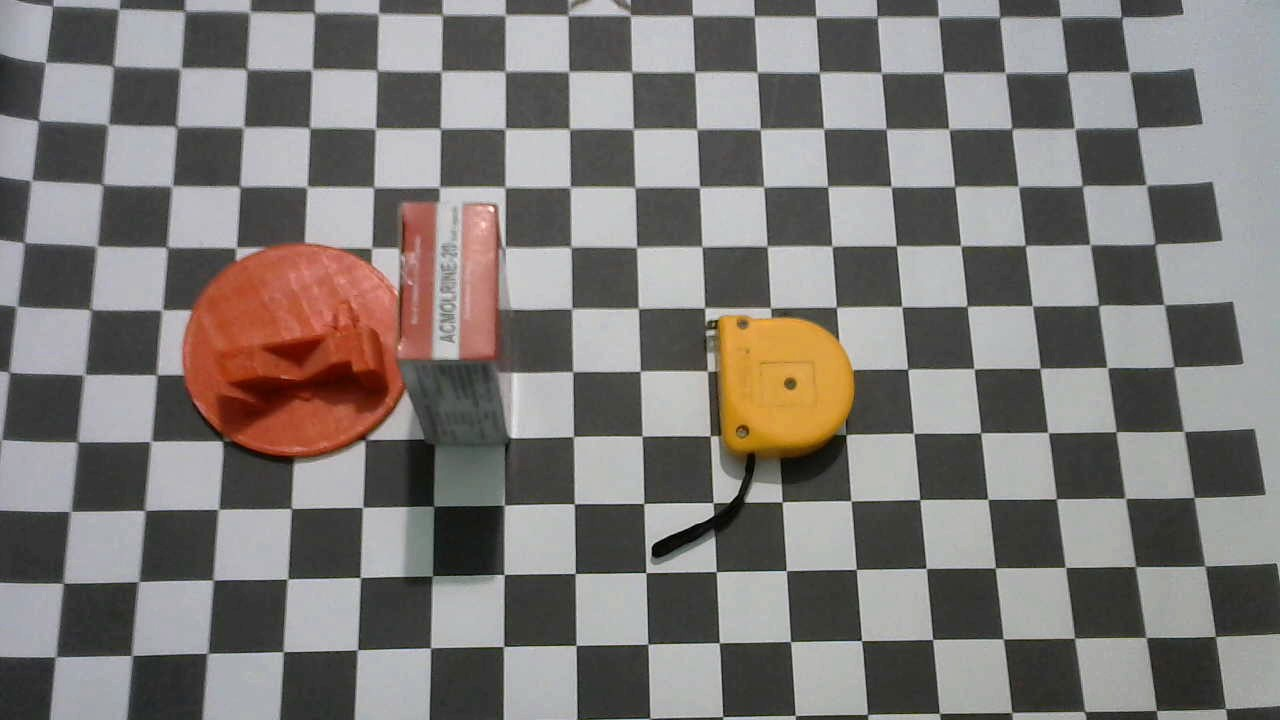blue: (705, 310, 856, 460)
green: (180, 243, 411, 461)
red: (398, 196, 510, 445)
